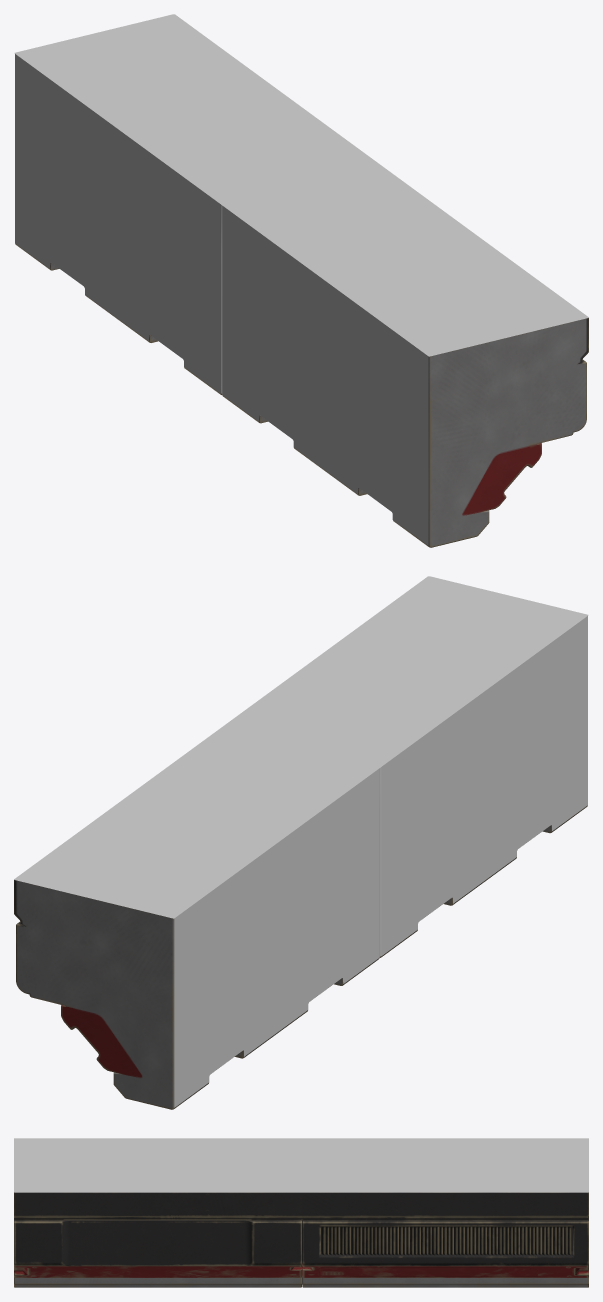
The model's file is SM_RoomStyle01_UpperWall01.fbx.
The picture shows the model from 3 angles, top to bottom: view 1: azimuth 30°, elevation 25°; view 2: azimuth 150°, elevation 25°; view 3: azimuth 270°, elevation 25°; orthographic projection. The views are drawn at different scales.
Parts seen in each view (by area): view 1: SM_RoomStyle01_UpperWall01_LOD0; view 2: SM_RoomStyle01_UpperWall01_LOD0; view 3: SM_RoomStyle01_UpperWall01_LOD0.
Part boxes in pixels (x1,y1,x2,y2): SM_RoomStyle01_UpperWall01_LOD0: [14, 14, 588, 547]; SM_RoomStyle01_UpperWall01_LOD0: [14, 576, 588, 1109]; SM_RoomStyle01_UpperWall01_LOD0: [14, 1138, 588, 1287].
Bounding box in the file's own units: 62.51 × 280 × 71.51.
Materials: 2 (1 with a texture image).
